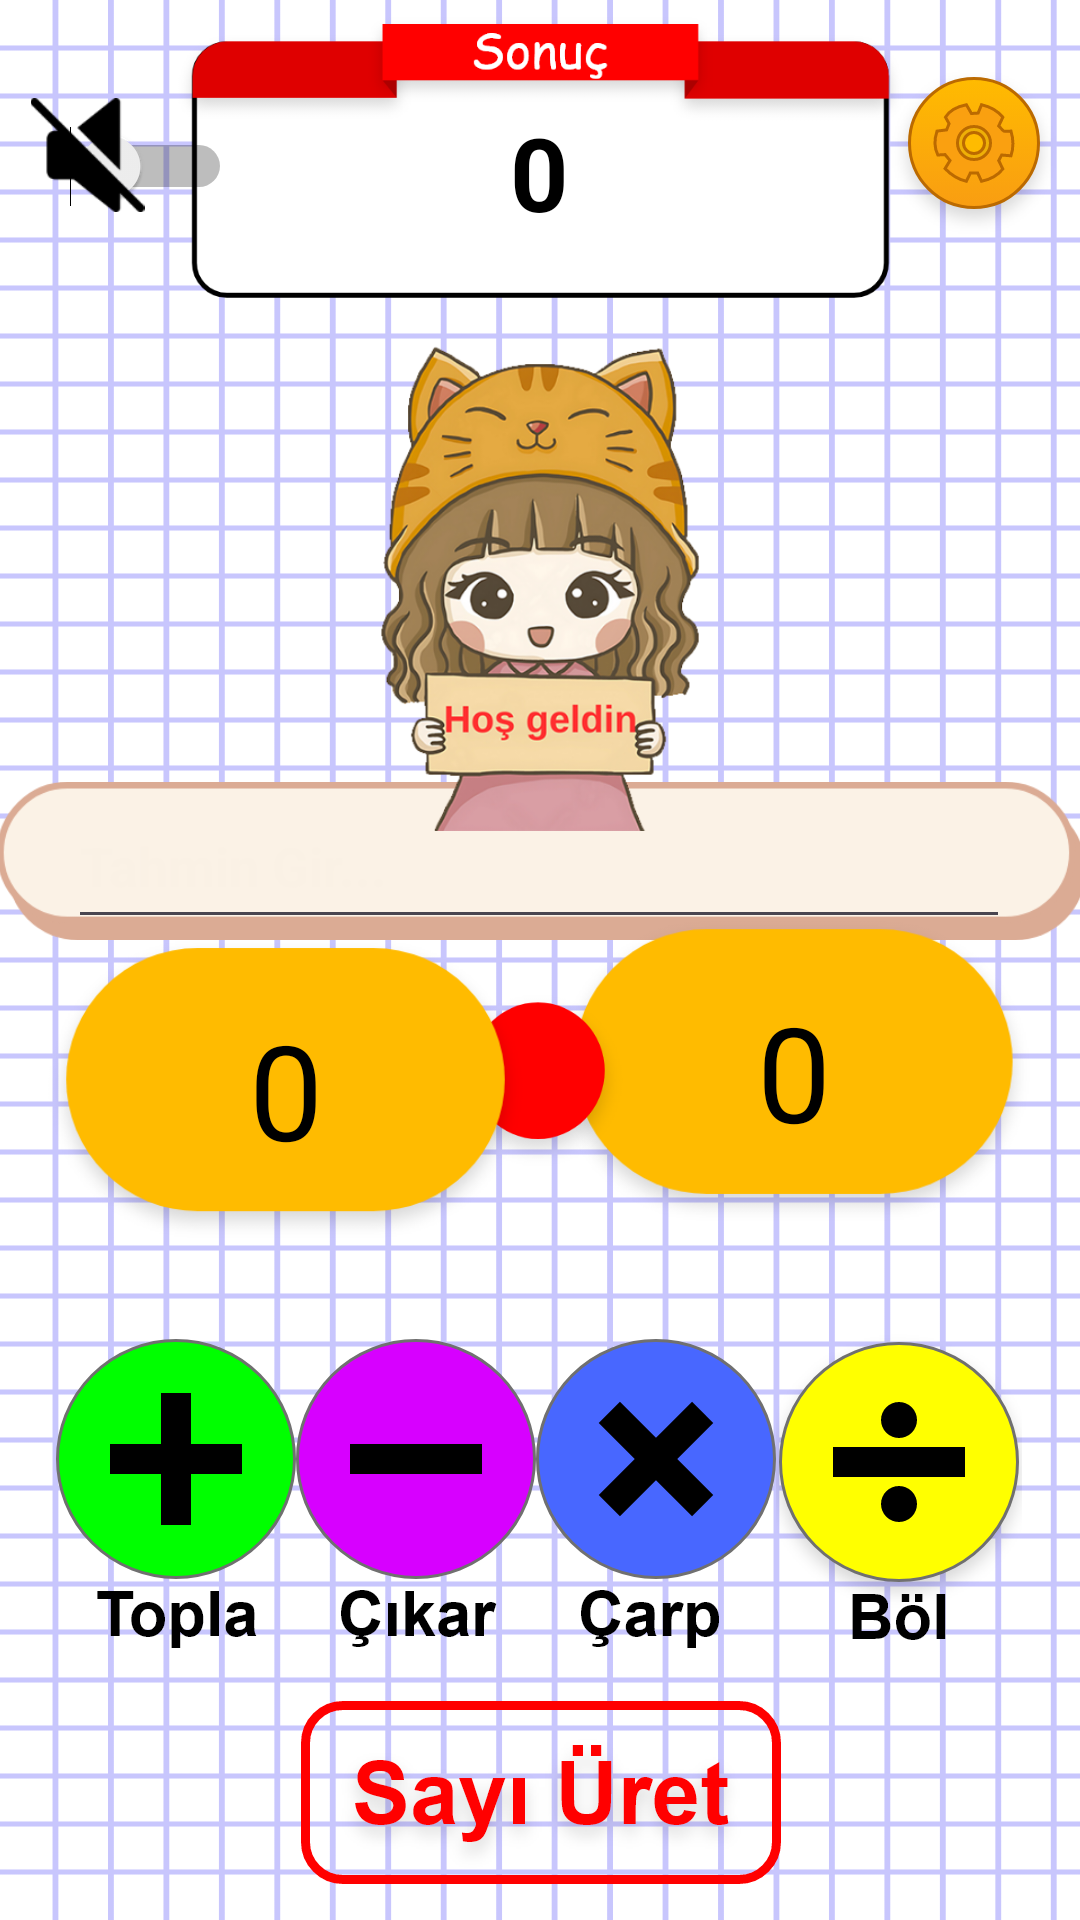

Screen size 1080px×1920px. Icon name, then its center in pixels as (x=x, y=y):
seskapali: (x=87, y=155)
